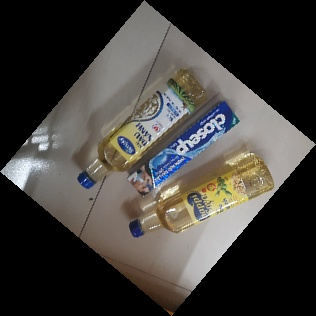CloseUp Tuyet: (125, 99, 240, 198)
Happy Soya: (128, 152, 275, 239)
Simply: (74, 66, 209, 193)
